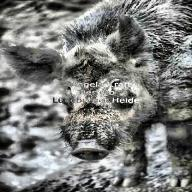boar: (41, 0, 192, 179)
